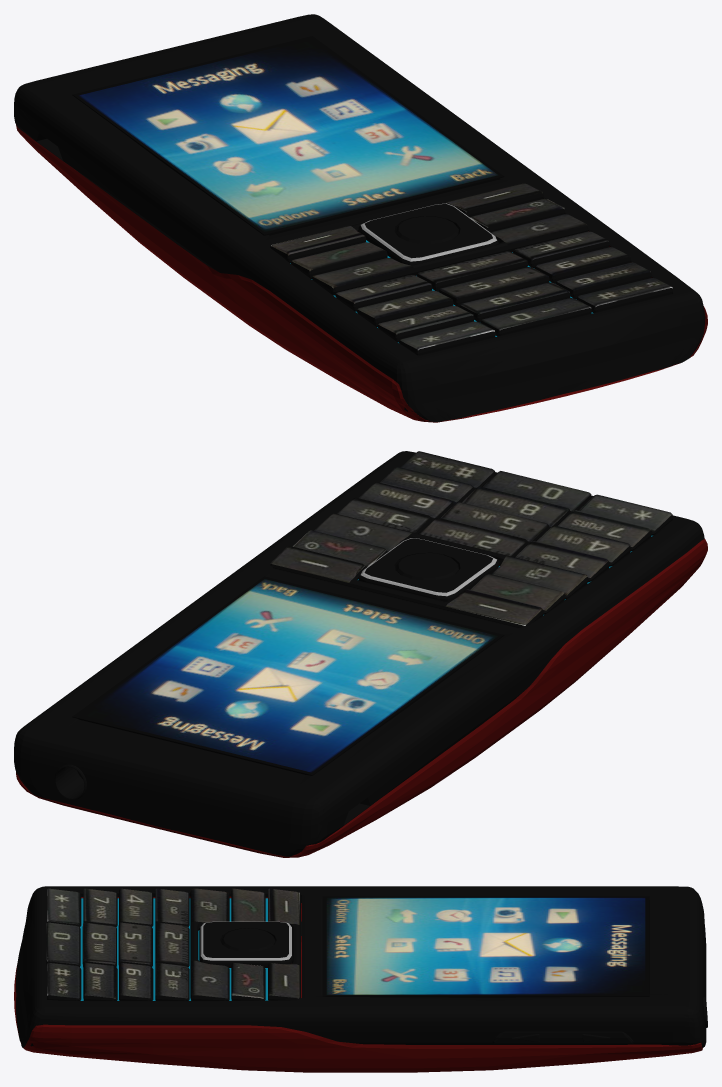
The model's file is mobile.obj.
The picture shows the model from 3 angles, top to bottom: view 1: azimuth 30°, elevation 25°; view 2: azimuth 150°, elevation 25°; view 3: azimuth 270°, elevation 25°; orthographic projection. The views are drawn at different scales.
Parts seen in each view (by area): view 1: casing_Plane.001, lcd_Plane, sft_key_Cube.002, casing_back_Plane.002, nav_1_Cube.001, nav_center_Cylinder; view 2: casing_Plane.001, lcd_Plane, sft_key_Cube.002, casing_back_Plane.002, nav_1_Cube.001, nav_center_Cylinder; view 3: casing_Plane.001, lcd_Plane, sft_key_Cube.002, casing_back_Plane.002, nav_1_Cube.001, R_bton_Plane.005, ight_Plane.003, nav_center_Cylinder.
Boxes of the visible parts, box(x1,y1,x2,y2) form: casing_Plane.001: box(14, 14, 705, 421); lcd_Plane: box(72, 36, 504, 235); sft_key_Cube.002: box(270, 183, 672, 355); casing_back_Plane.002: box(16, 124, 707, 422); nav_1_Cube.001: box(358, 203, 498, 264); nav_center_Cylinder: box(396, 216, 458, 243); casing_Plane.001: box(14, 451, 704, 856); lcd_Plane: box(72, 576, 504, 775); sft_key_Cube.002: box(270, 451, 672, 627); casing_back_Plane.002: box(16, 539, 707, 857); nav_1_Cube.001: box(358, 538, 499, 601); nav_center_Cylinder: box(396, 553, 458, 580); casing_Plane.001: box(16, 886, 707, 1047); lcd_Plane: box(322, 896, 649, 997); sft_key_Cube.002: box(46, 888, 300, 1000); casing_back_Plane.002: box(14, 896, 702, 1072); nav_1_Cube.001: box(199, 921, 292, 967); R_bton_Plane.005: box(492, 1031, 633, 1043); ight_Plane.003: box(80, 898, 268, 1000); nav_center_Cylinder: box(221, 928, 275, 951).
Size of the model in its own units: 4.95 by 1.35 by 11.
Materials: 9 (2 with a texture image).
